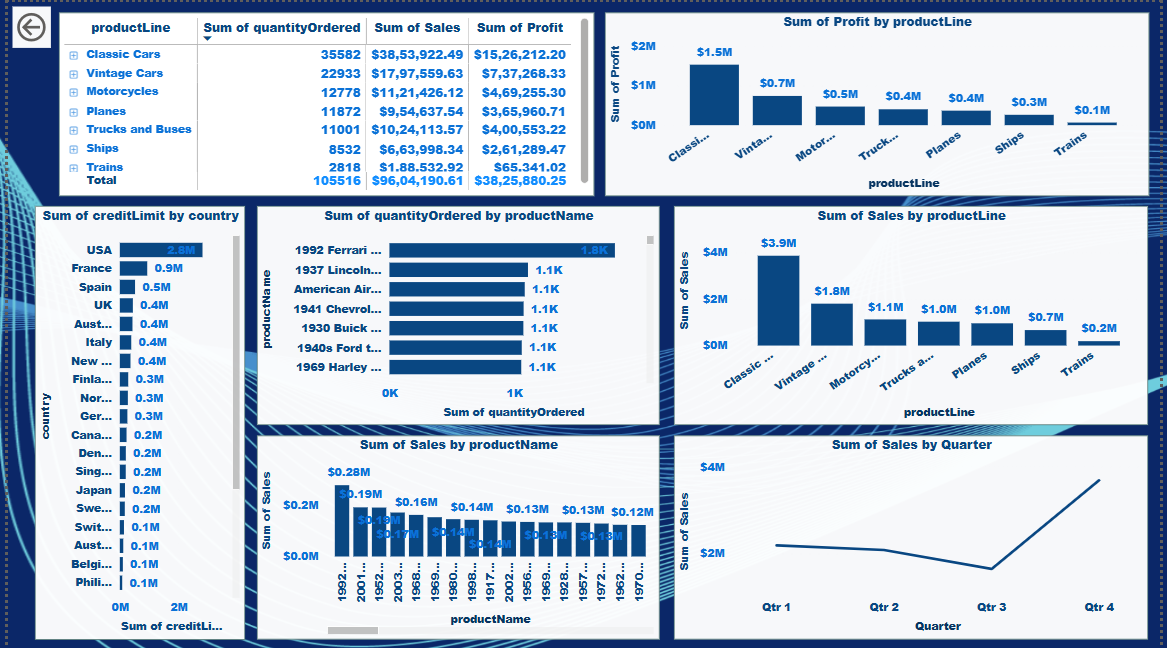

This screenshot's page, from the dashboard's own definition file:
{"tool":"powerbi","page":{"name":"Page 2","canvas":[1280,720],"ordinal":1},"visuals":[{"type":"pivotTable","fields":{"Rows":["productlines.productLine","products.productName"],"Values":["Sum(order details.quantityOrdered)","Sum(order details.Sales)","Sum(order details.Profit)"]},"box":[56.3,11.6,594.7,203.7],"z":0},{"type":"columnChart","fields":{"Category":["productlines.productLine"],"Y":["Sum(order details.Sales)"]},"box":[740.4,226.9,526.8,243.5],"z":1000},{"type":"columnChart","fields":{"Category":["products.productName"],"Y":["Sum(order details.Sales)"]},"box":[276.6,482,447.2,226.9],"z":2000},{"type":"clusteredBarChart","fields":{"Category":["products.productName"],"Y":["Sum(order details.quantityOrdered)"]},"box":[276.6,226.9,447.2,243.5],"z":3000},{"type":"clusteredColumnChart","fields":{"Category":["productlines.productLine"],"Y":["Sum(order details.Profit)"]},"box":[662.6,11.6,604.6,203.7],"z":4000},{"type":"lineChart","fields":{"Y":["Sum(order details.Sales)"],"Category":["orders.orderDate.Variation.Date Hierarchy.Year","orders.orderDate.Variation.Date Hierarchy.Quarter","orders.orderDate.Variation.Date Hierarchy.Month","orders.orderDate.Variation.Date Hierarchy.Day"]},"box":[740.4,482,526.8,226.9],"z":5000},{"type":"clusteredBarChart","fields":{"Category":["customers.country"],"Y":["Sum(customers.creditLimit)"]},"box":[29.8,226.9,233.6,482],"z":6000},{"type":"actionButton","box":[5.8,5.8,42.4,46.2],"z":7000}]}

Visuals, with their boxes in screenshot pixels (x1, y1, x2, y2), scaled from the page's 1280x720 canvas onto the 1167x648 screenshot:
pivotTable - productlines.productLine x products.productName: pyautogui.locateOnScreen(51, 10, 594, 194)
columnChart - productlines.productLine x Sum(order details.Sales): pyautogui.locateOnScreen(675, 204, 1155, 423)
columnChart - products.productName x Sum(order details.Sales): pyautogui.locateOnScreen(252, 434, 660, 638)
clusteredBarChart - products.productName x Sum(order details.quantityOrdered): pyautogui.locateOnScreen(252, 204, 660, 423)
clusteredColumnChart - productlines.productLine x Sum(order details.Profit): pyautogui.locateOnScreen(604, 10, 1155, 194)
lineChart - Sum(order details.Sales) x orders.orderDate.Variation.Date Hierarchy.Year: pyautogui.locateOnScreen(675, 434, 1155, 638)
clusteredBarChart - customers.country x Sum(customers.creditLimit): pyautogui.locateOnScreen(27, 204, 240, 638)
actionButton: pyautogui.locateOnScreen(5, 5, 44, 47)
